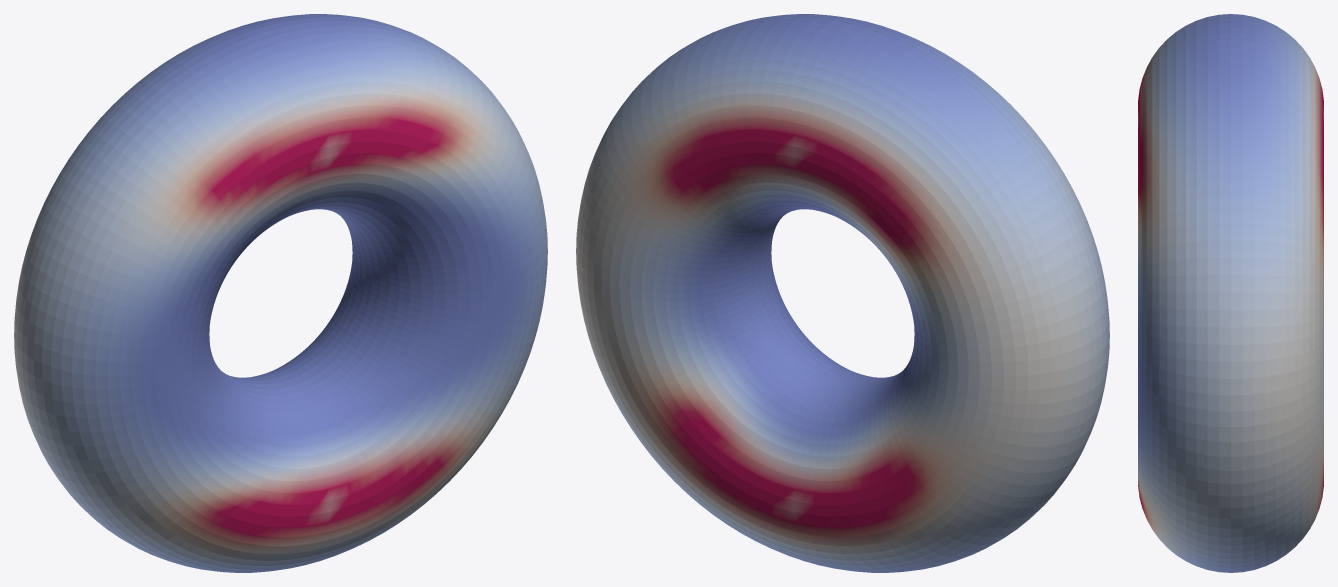
The picture shows the model from 3 angles, left to right: view 1: azimuth 30°, elevation 25°; view 2: azimuth 150°, elevation 25°; view 3: azimuth 270°, elevation 25°; orthographic projection. The views are drawn at different scales.
Visible parts, largest first — view 1: world; view 2: world; view 3: world.
Boxes of the visible parts, box(x1,y1,x2,y2) form: world: box(14, 14, 547, 572); world: box(576, 14, 1109, 572); world: box(1138, 14, 1323, 572).
Bounding box in the file's own units: 18 × 18 × 5.99.
